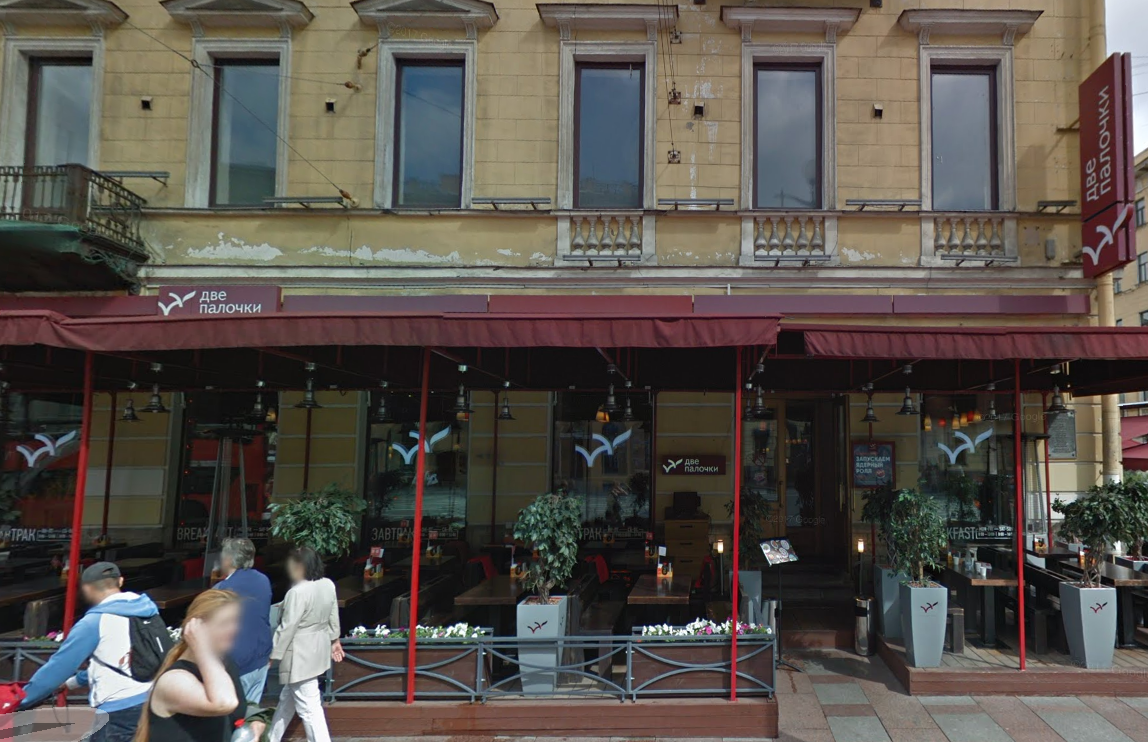cantilever: (1049, 48, 1138, 275)
signboard: (159, 284, 288, 318)
window: (206, 49, 279, 207), (389, 62, 461, 208), (932, 62, 1001, 207), (573, 67, 639, 214), (753, 65, 819, 212), (26, 56, 89, 165)
